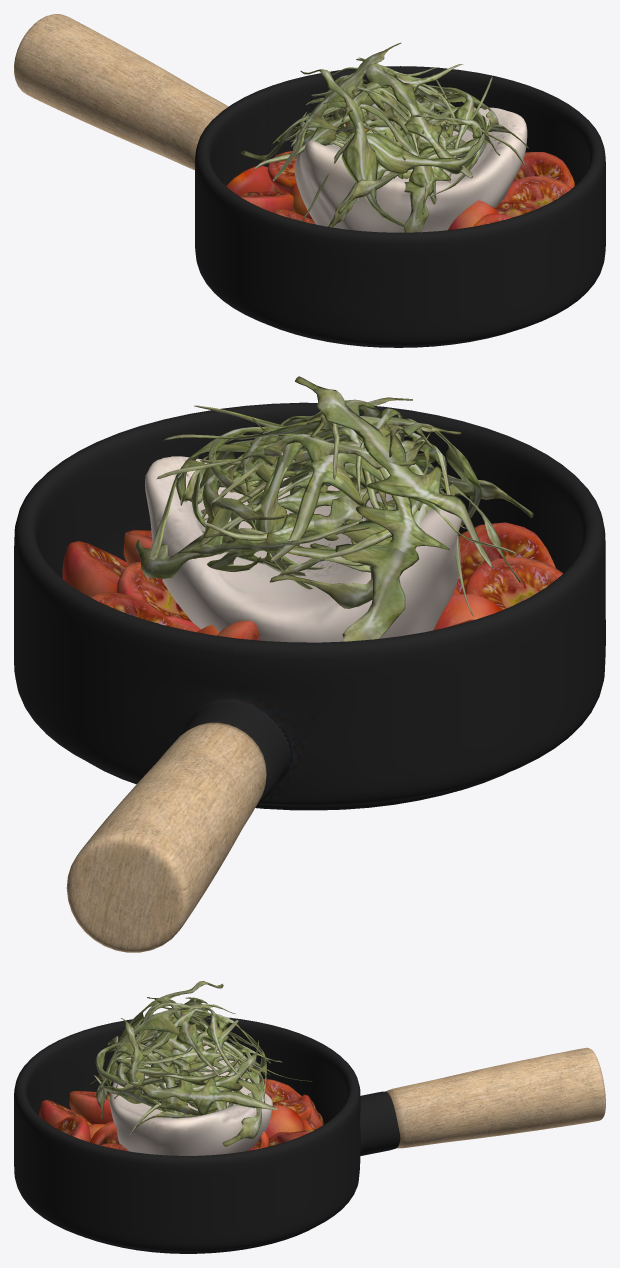
The model's file is burrata-draco.glb.
3 views of the same model, one above another, from view 1: azimuth 30°, elevation 25°; view 2: azimuth 150°, elevation 25°; view 3: azimuth 270°, elevation 25° (orthographic). The views are drawn at different scales.
Visible parts, largest first — view 1: Cylinder001.002, Cylinder002.001, ZBrush_defualt_group.001, ZBrush_defualt_group001.002, Burrata, Tomates modelados; view 2: Cylinder001.002, Cylinder002.001, Burrata, ZBrush_defualt_group001.002, ZBrush_defualt_group.001, Tomates modelados; view 3: Cylinder001.002, Cylinder002.001, ZBrush_defualt_group.001, Burrata, ZBrush_defualt_group001.002, Tomates modelados.
Boxes of the visible parts, bbox=[...] form: Cylinder001.002: bbox=[195, 66, 605, 347]; Cylinder002.001: bbox=[14, 14, 228, 170]; ZBrush_defualt_group.001: bbox=[254, 57, 528, 227]; ZBrush_defualt_group001.002: bbox=[295, 107, 527, 232]; Burrata: bbox=[241, 42, 498, 232]; Tomates modelados: bbox=[226, 122, 574, 229]; Cylinder001.002: bbox=[14, 402, 605, 810]; Cylinder002.001: bbox=[66, 722, 266, 952]; Burrata: bbox=[135, 376, 520, 641]; ZBrush_defualt_group001.002: bbox=[145, 456, 461, 642]; ZBrush_defualt_group.001: bbox=[156, 397, 533, 616]; Tomates modelados: bbox=[62, 522, 563, 640]; Cylinder001.002: bbox=[14, 1016, 400, 1253]; Cylinder002.001: bbox=[386, 1047, 605, 1148]; ZBrush_defualt_group.001: bbox=[90, 981, 267, 1134]; Burrata: bbox=[94, 997, 312, 1146]; ZBrush_defualt_group001.002: bbox=[110, 1030, 272, 1155]; Tomates modelados: bbox=[39, 1079, 323, 1151].
Size of the model in its own units: 0.5852 by 0.3539 by 0.9993.
Materials: 2 (2 with a texture image).
